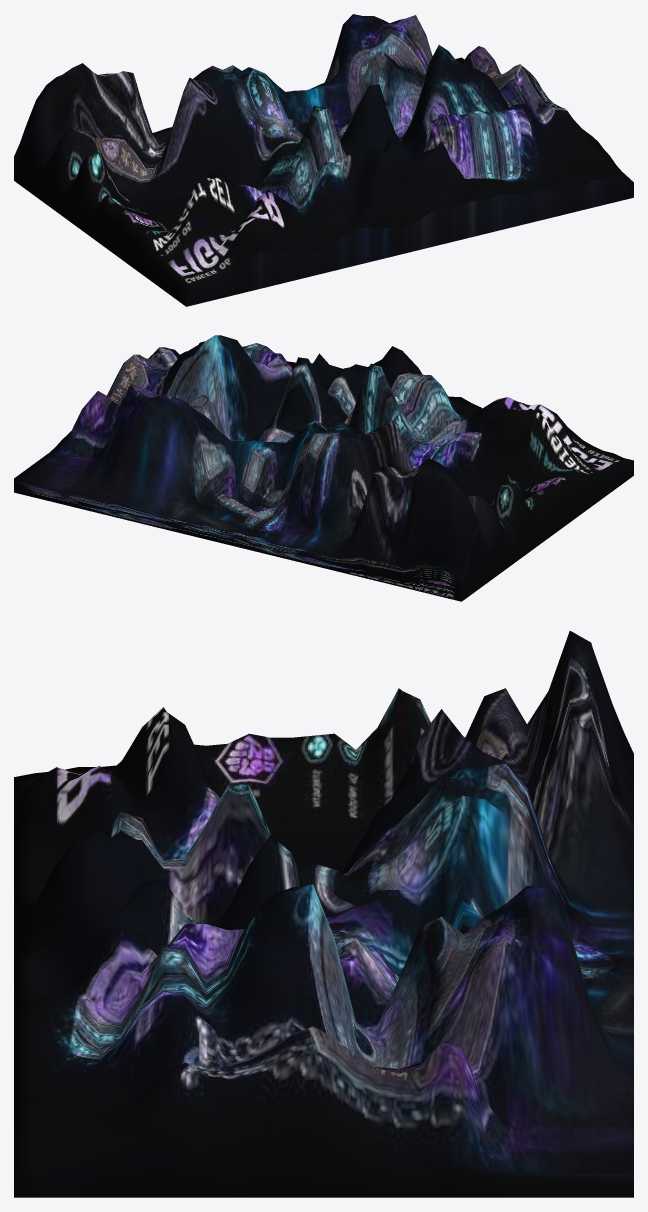
The model's file is CAREER_06_Tool_05_Weights.glb.
The picture shows the model from 3 angles, top to bottom: view 1: azimuth 30°, elevation 25°; view 2: azimuth 150°, elevation 25°; view 3: azimuth 270°, elevation 25°; orthographic projection. The views are drawn at different scales.
Parts seen in each view (by area): view 1: CAREER_06_Tool_05_Weights; view 2: CAREER_06_Tool_05_Weights; view 3: CAREER_06_Tool_05_Weights.
Part boxes in pixels (x1=…): CAREER_06_Tool_05_Weights: x1=14, y1=14, x2=633, y2=306; CAREER_06_Tool_05_Weights: x1=14, y1=335, x2=633, y2=601; CAREER_06_Tool_05_Weights: x1=14, y1=631, x2=633, y2=1197.
Bounding box in the file's own units: 2 × 0.51 × 1.33.
Materials: 1 (1 with a texture image).
